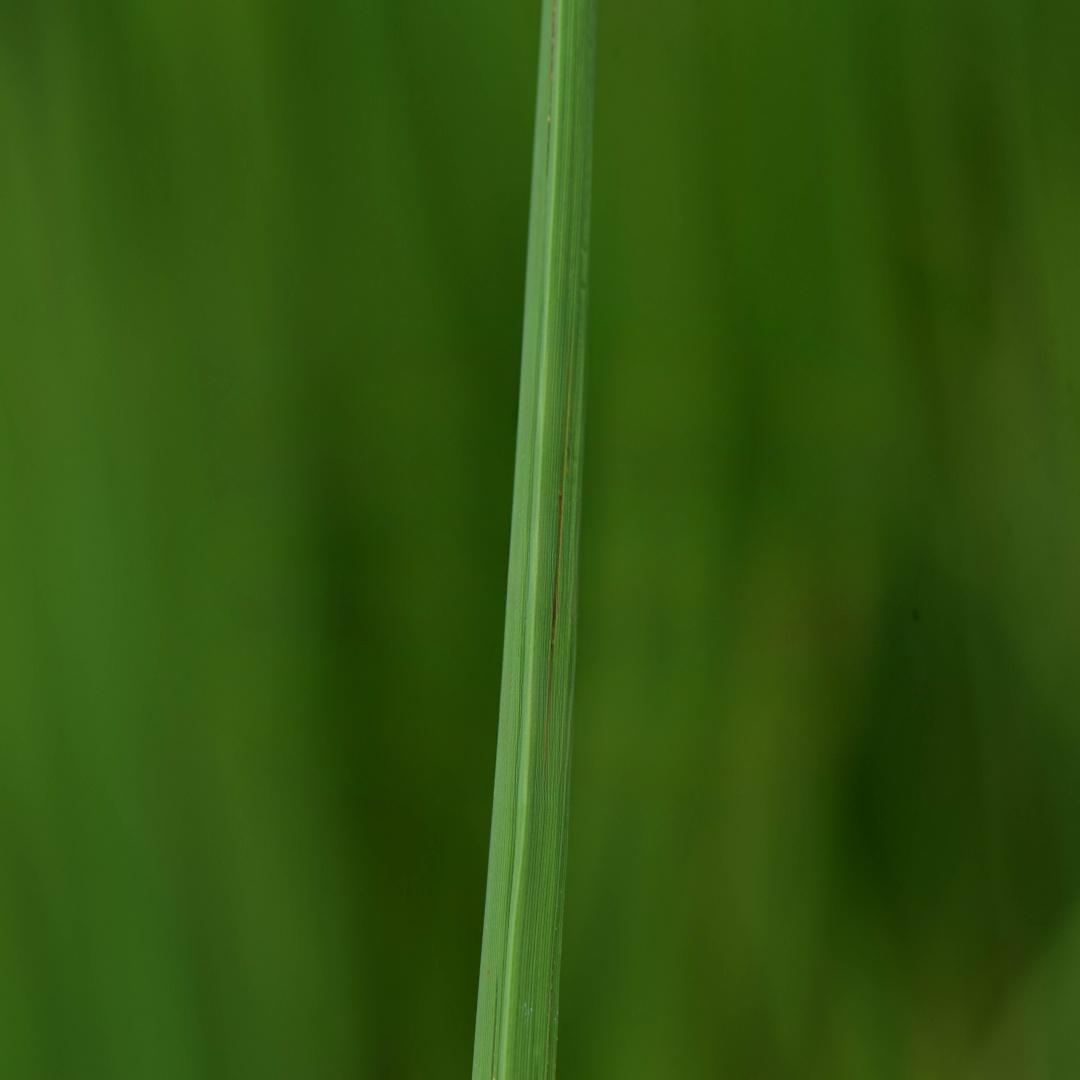BLS: (545, 407, 565, 759), (545, 0, 557, 186)
LEAF: (472, 0, 596, 1079)
